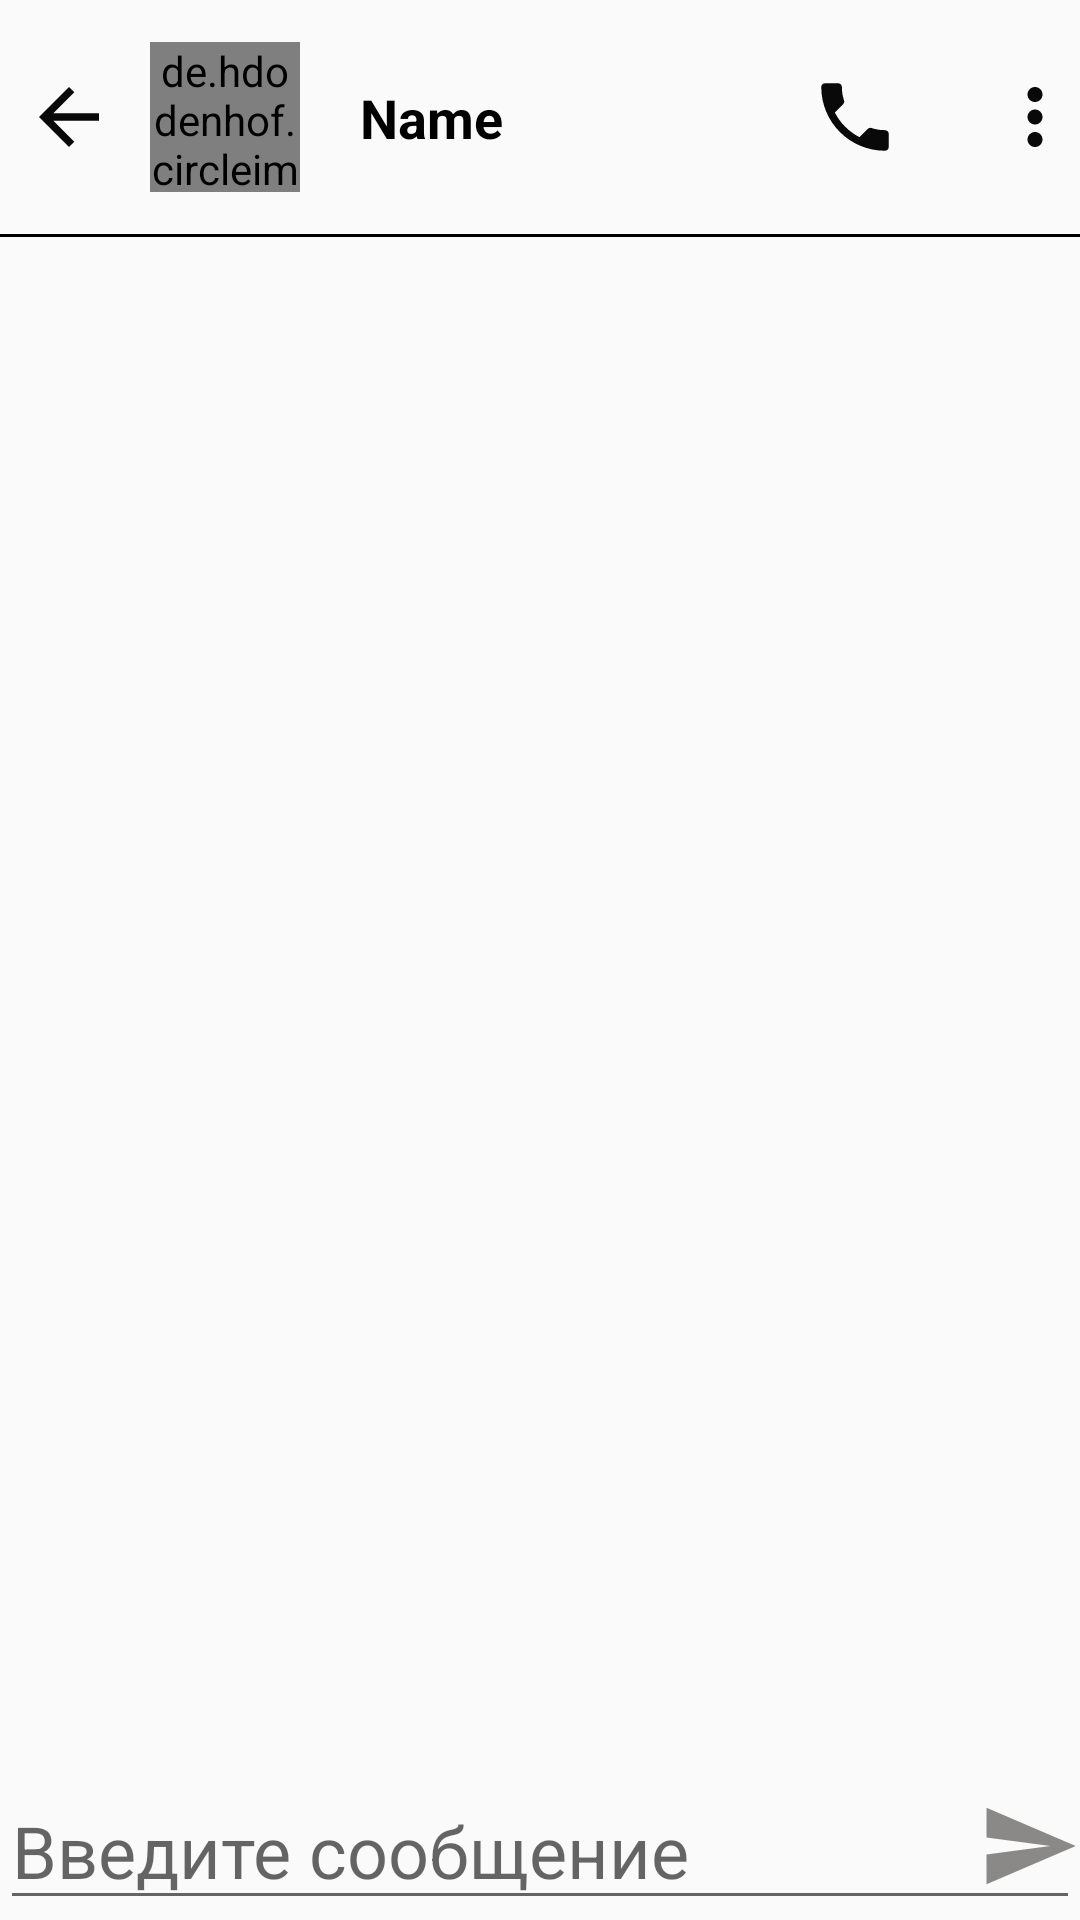

Icon bounding boxes for this 1080 x 1920 phone screenshot, format (x1, y1, x2, y2):
back: (39, 87, 99, 147)
phone: (821, 83, 889, 151)
send: (986, 1808, 1075, 1884)
